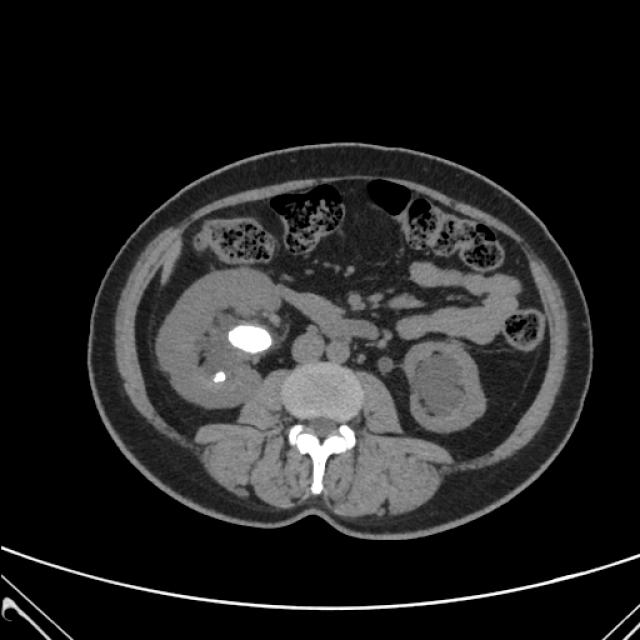kidney: (152, 267, 284, 408), (402, 340, 487, 434)
stone: (228, 324, 272, 353), (215, 370, 228, 382)
